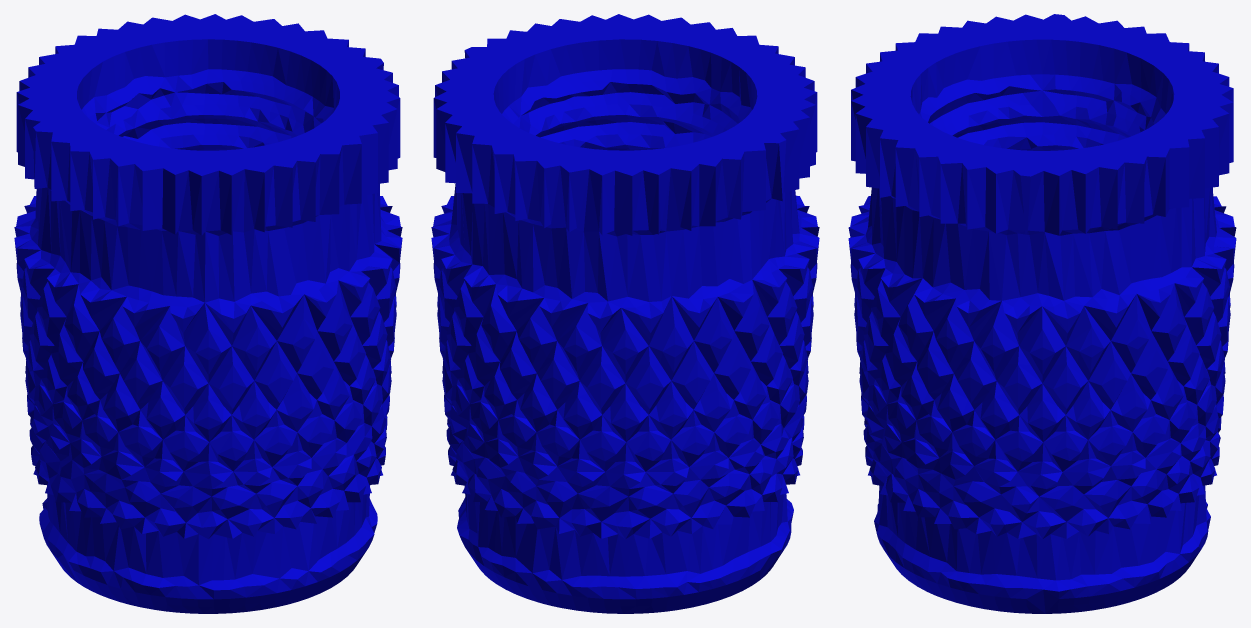
Rendered from fastener_poisson.glb.
3 views of the same model, side by side, from view 1: azimuth 30°, elevation 25°; view 2: azimuth 150°, elevation 25°; view 3: azimuth 270°, elevation 25° (orthographic).
Parts seen in each view (by area): view 1: genus_1.obj; view 2: genus_1.obj; view 3: genus_1.obj.
Part boxes in pixels (box(x1,y1,x2,y2)): genus_1.obj: box(14, 14, 402, 613); genus_1.obj: box(431, 14, 819, 613); genus_1.obj: box(848, 14, 1236, 613).
Size of the model in its own units: 1.19 by 1.54 by 1.19.
